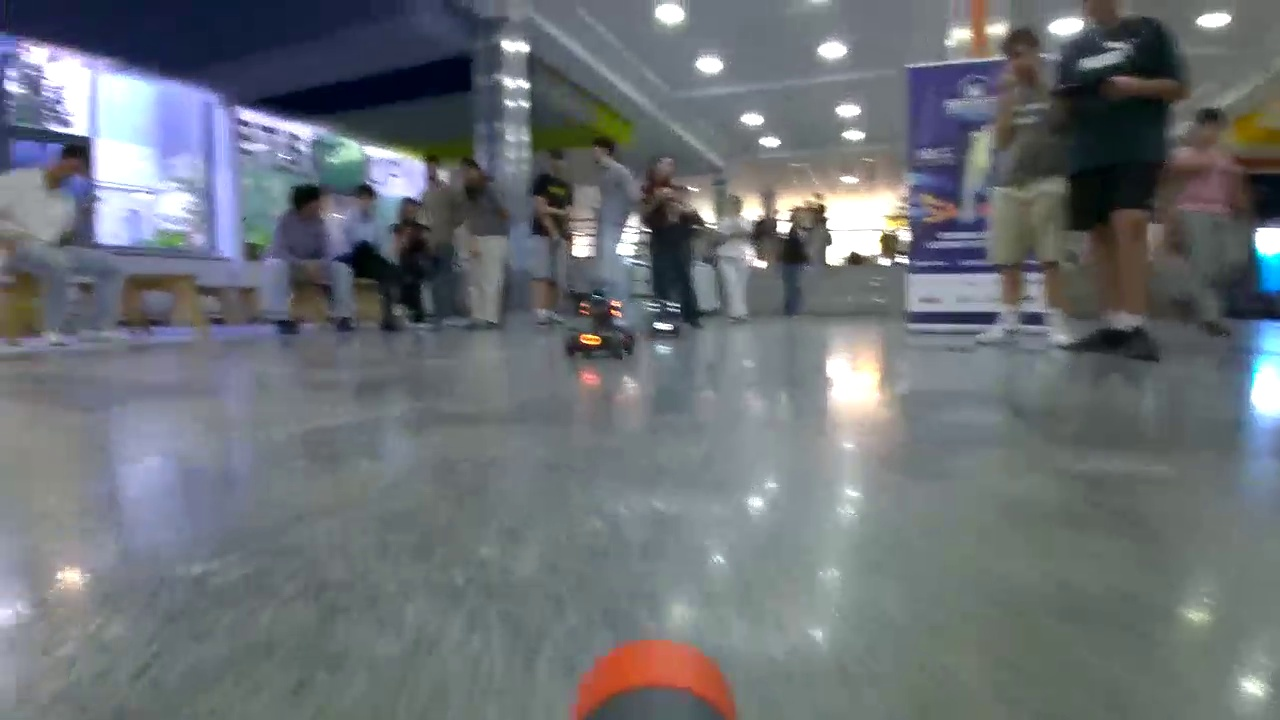robot: (563, 290, 637, 356), (650, 298, 698, 335)
